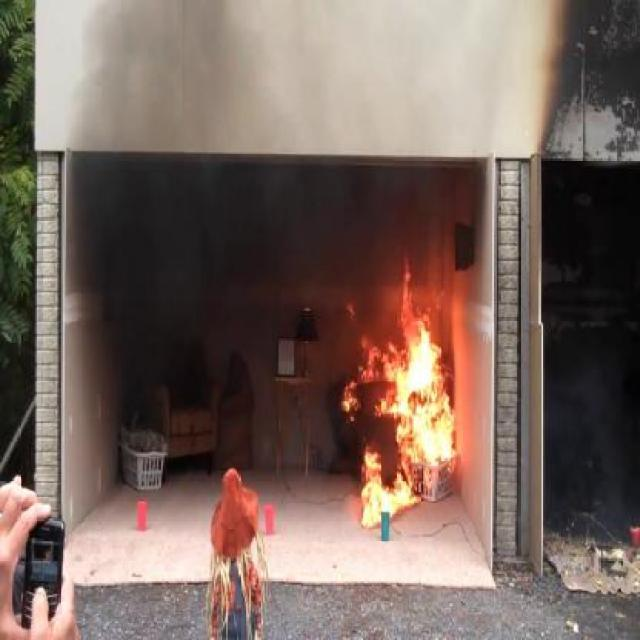fire: (145, 241, 487, 422)
